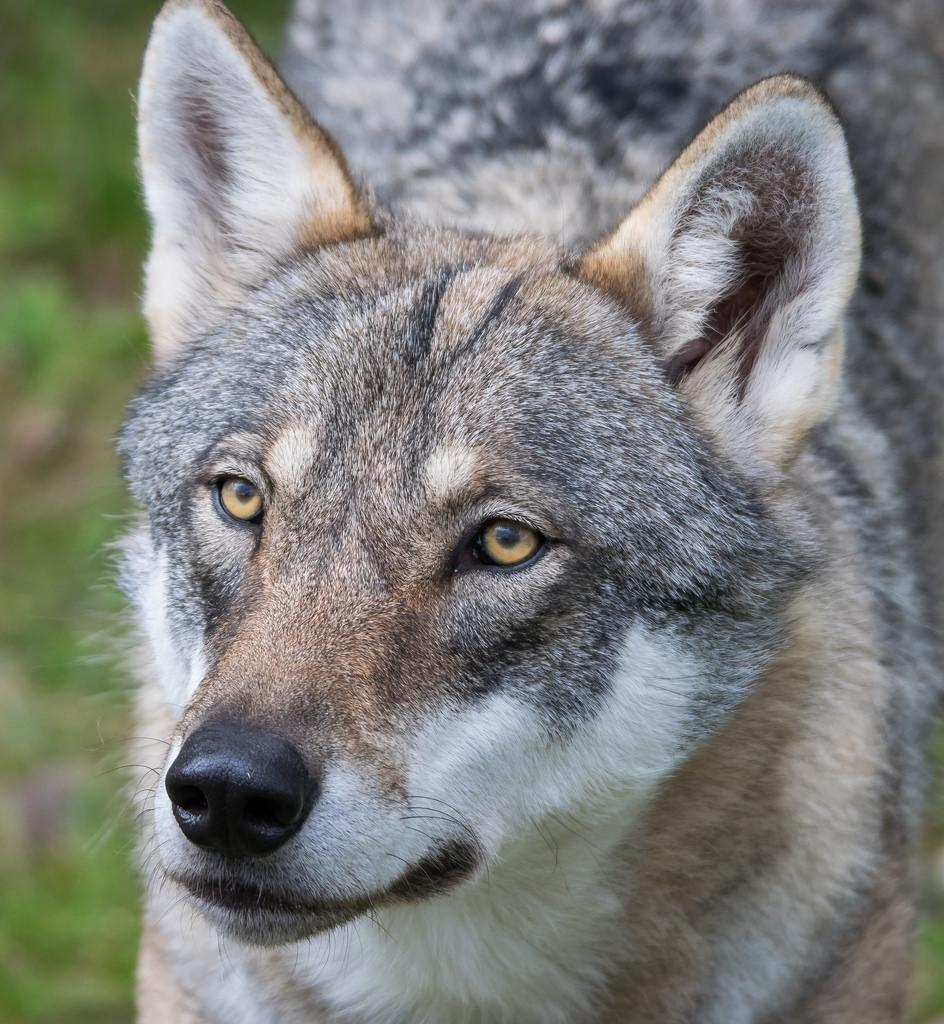Wolf: (141, 4, 932, 1023)
